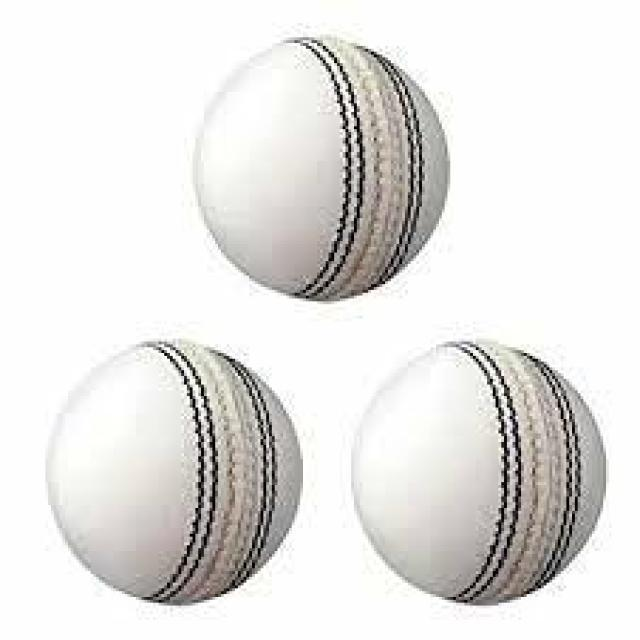cricket ball: (44, 337, 305, 606), (191, 35, 452, 301), (350, 339, 608, 607)
